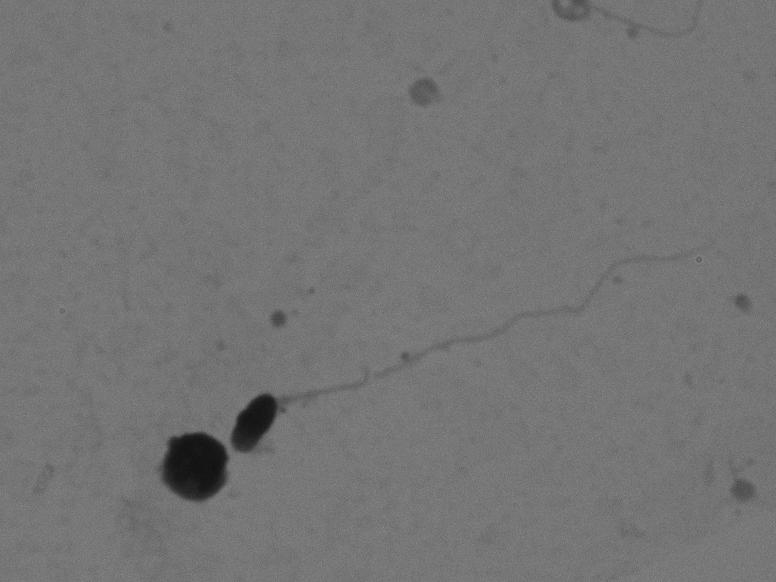Abnormal: (225, 184, 736, 482)
